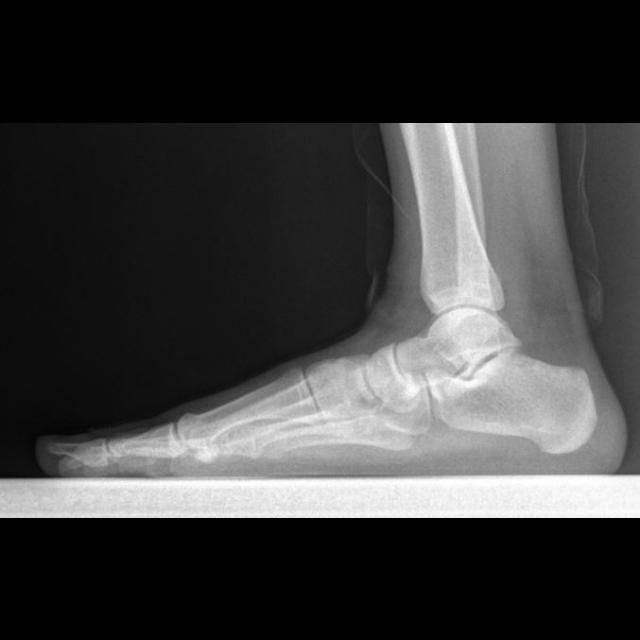a: (425, 346, 597, 453)
b: (367, 342, 423, 411)
c: (178, 366, 327, 450)
